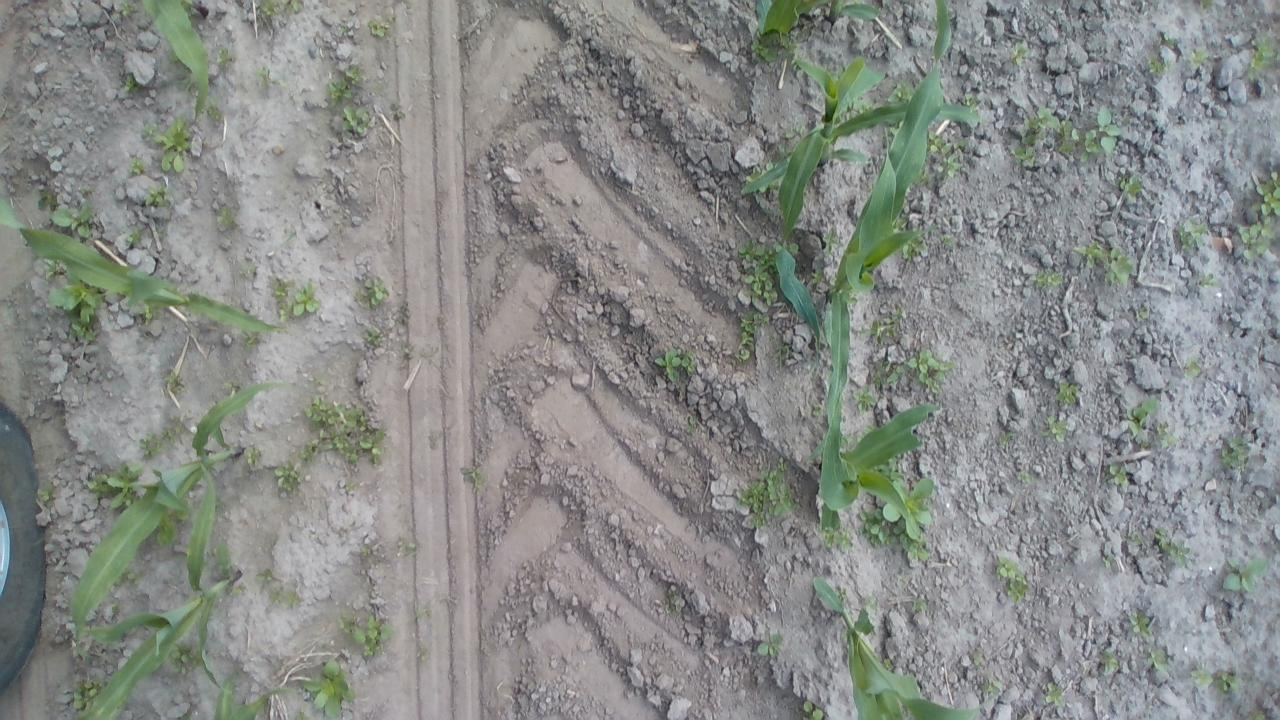Maize: (740, 55, 983, 376), (806, 0, 954, 464), (70, 382, 290, 654), (70, 463, 240, 720), (0, 197, 286, 332), (810, 572, 996, 720), (808, 365, 938, 529), (138, 0, 210, 119), (213, 667, 300, 720), (753, 0, 880, 34)
Weeds: (298, 394, 384, 467), (48, 270, 106, 342), (738, 238, 798, 306), (739, 466, 798, 528), (887, 348, 955, 395), (301, 659, 356, 717), (881, 478, 934, 538), (1010, 107, 1058, 168), (154, 115, 192, 174), (751, 29, 801, 70), (1056, 120, 1102, 163), (736, 310, 770, 368), (352, 614, 392, 658), (279, 282, 321, 322), (995, 556, 1029, 604), (1222, 558, 1267, 594), (1240, 215, 1276, 259), (656, 346, 698, 383), (109, 463, 142, 510), (50, 201, 90, 238), (326, 66, 362, 106), (168, 49, 198, 96), (165, 640, 203, 676), (1154, 528, 1190, 566), (859, 507, 894, 546), (1251, 171, 1280, 218), (1097, 103, 1122, 156), (1247, 33, 1274, 82), (746, 160, 786, 193), (70, 678, 106, 714), (870, 306, 904, 344), (1102, 249, 1134, 289), (354, 276, 390, 310), (1126, 397, 1158, 435), (1176, 219, 1208, 252), (868, 450, 902, 480), (274, 459, 302, 493), (154, 510, 178, 548), (340, 105, 370, 134), (821, 526, 854, 551), (1074, 240, 1103, 268), (1220, 437, 1246, 468), (841, 97, 873, 121), (1042, 414, 1069, 442), (900, 534, 929, 560), (852, 384, 876, 415), (254, 68, 287, 90), (110, 566, 146, 586), (886, 80, 914, 105), (1156, 422, 1180, 450), (138, 433, 164, 458), (925, 129, 950, 155), (256, 0, 302, 14), (143, 184, 171, 207), (269, 589, 301, 609), (756, 632, 782, 656), (902, 236, 926, 262), (88, 472, 110, 500), (938, 154, 961, 180), (460, 467, 485, 490), (1128, 611, 1150, 637), (871, 359, 889, 390), (1118, 174, 1140, 199), (1214, 672, 1240, 693), (164, 417, 184, 444), (268, 276, 288, 302), (664, 588, 684, 614), (821, 227, 840, 254), (1031, 270, 1063, 286), (1044, 681, 1063, 707), (1055, 381, 1077, 403), (1147, 649, 1168, 672), (140, 300, 160, 324), (1190, 46, 1210, 70), (1106, 464, 1128, 485), (772, 341, 793, 363), (368, 18, 390, 38), (1101, 650, 1121, 672), (801, 700, 823, 720), (361, 327, 384, 346), (204, 96, 220, 123), (1190, 668, 1214, 686), (1009, 42, 1027, 66), (215, 206, 234, 228), (36, 191, 58, 210), (215, 48, 234, 69), (176, 498, 192, 522), (164, 372, 183, 391), (1147, 56, 1167, 74), (122, 73, 140, 93), (116, 0, 136, 18), (338, 615, 356, 635), (1182, 359, 1202, 377), (962, 92, 980, 112), (910, 170, 930, 188), (241, 329, 259, 348), (129, 156, 146, 176), (43, 255, 57, 279), (246, 447, 262, 468), (856, 424, 874, 442), (885, 118, 904, 135), (826, 66, 846, 82), (1198, 274, 1220, 288), (38, 482, 54, 501), (390, 102, 406, 121), (125, 226, 142, 243), (890, 216, 906, 234), (1242, 709, 1266, 720), (179, 0, 194, 17), (212, 490, 226, 508), (412, 608, 430, 622), (256, 569, 275, 582), (786, 124, 802, 139), (776, 144, 791, 160), (142, 122, 158, 136), (912, 597, 928, 611), (940, 234, 956, 248), (810, 268, 824, 284), (982, 681, 1002, 692), (238, 264, 256, 276), (294, 708, 312, 720), (834, 587, 848, 602), (1016, 470, 1031, 484), (998, 432, 1013, 446), (864, 596, 878, 610), (229, 584, 245, 596), (398, 540, 417, 550), (776, 457, 790, 470), (124, 297, 140, 308), (686, 417, 696, 434), (284, 229, 296, 243), (882, 658, 894, 672), (840, 435, 855, 446), (1162, 34, 1175, 46), (1103, 554, 1114, 568), (812, 404, 824, 416), (1131, 532, 1142, 545), (222, 380, 236, 390), (345, 481, 357, 492), (110, 600, 120, 613), (1136, 310, 1150, 319), (1197, 0, 1214, 7), (973, 652, 981, 666), (404, 345, 414, 356), (954, 140, 966, 148), (78, 187, 90, 195), (340, 26, 348, 36), (1140, 439, 1150, 446), (180, 714, 191, 720), (314, 378, 324, 384), (851, 0, 861, 5), (362, 546, 369, 552)
